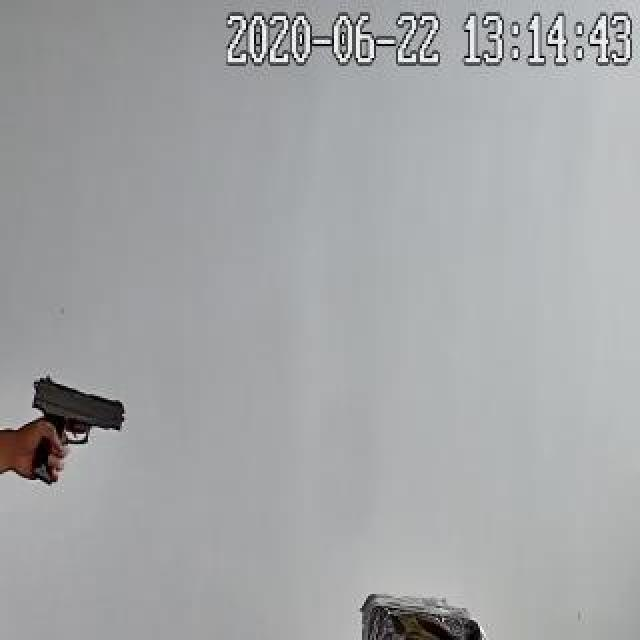Guns: (1, 349, 140, 514)
